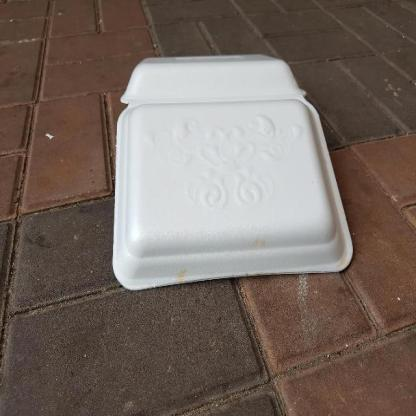Glass Cup: (111, 52, 354, 289), (113, 54, 353, 290)
